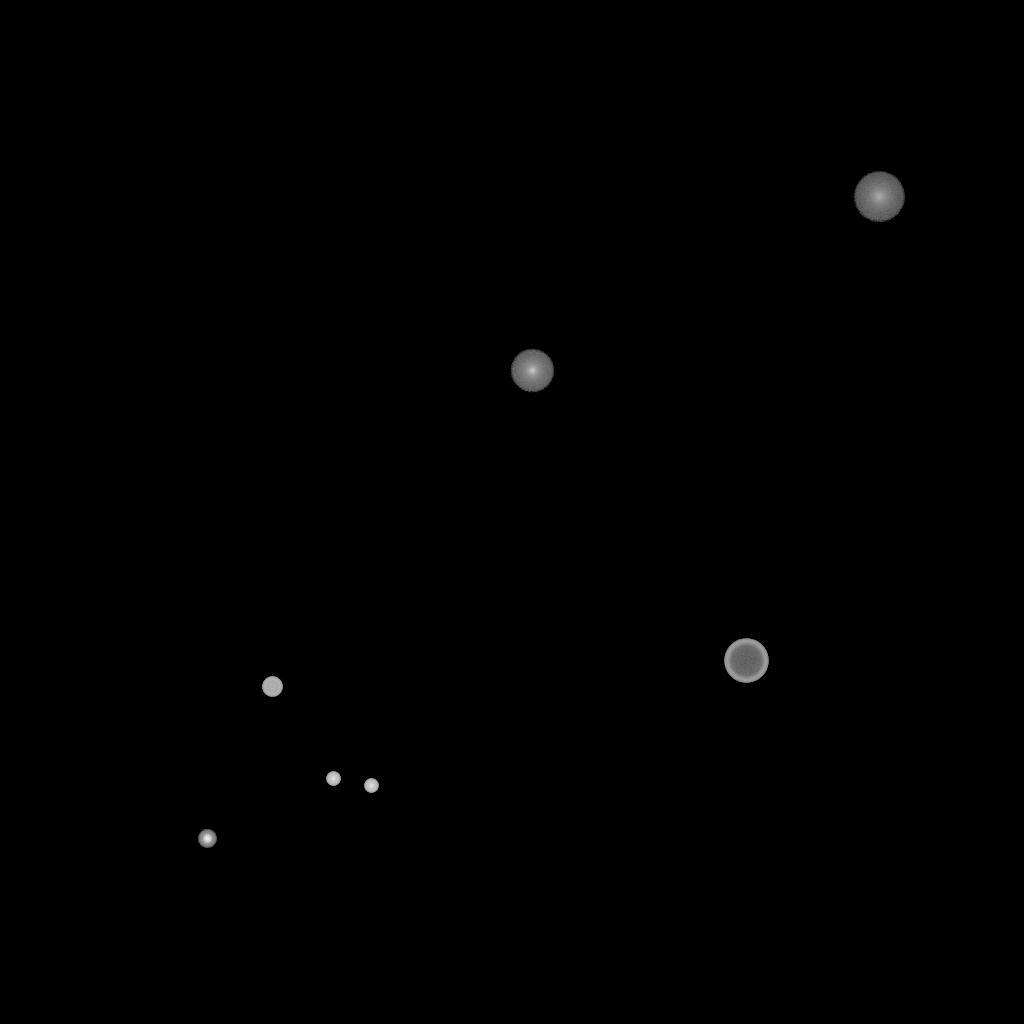depth:-20: (198, 830, 216, 848)
depth:-30: (326, 772, 340, 786), (364, 779, 378, 793)
depth:-40: (262, 677, 282, 697)
depth:-70: (724, 639, 768, 683)
depth:10: (510, 349, 554, 393)
depth:20: (853, 172, 905, 222)
